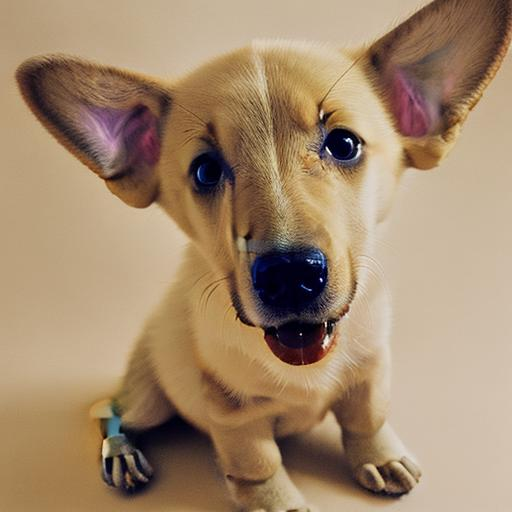eye: (306, 121, 375, 179), (184, 151, 241, 196)
